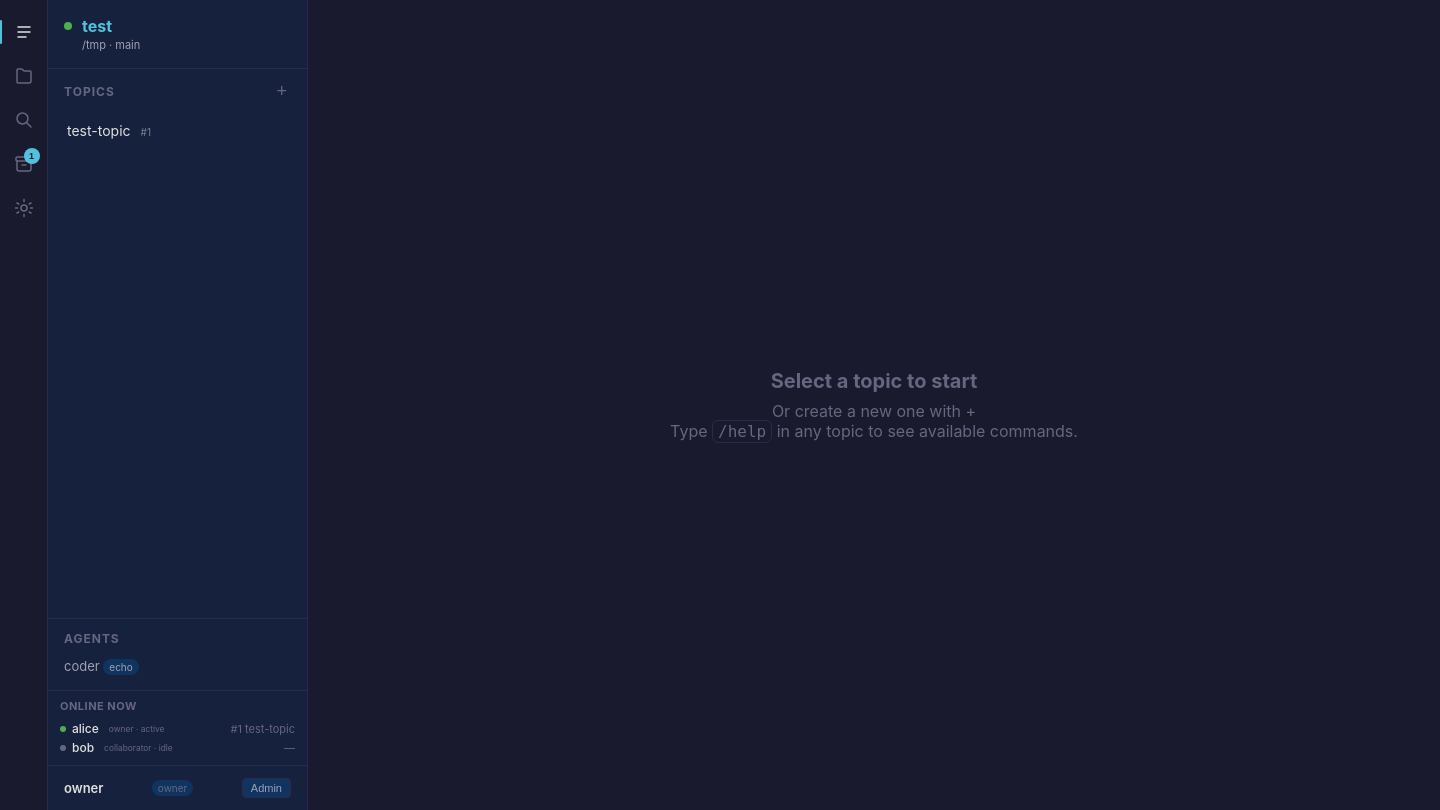
it: message composer delivery state › marks the optimistic message as failed when POST fails
Expected: the heading "Select a topic to start" is shown, [771, 369, 977, 393]
Click the list item "test-topic" at (109, 130), box [67, 122, 151, 139]
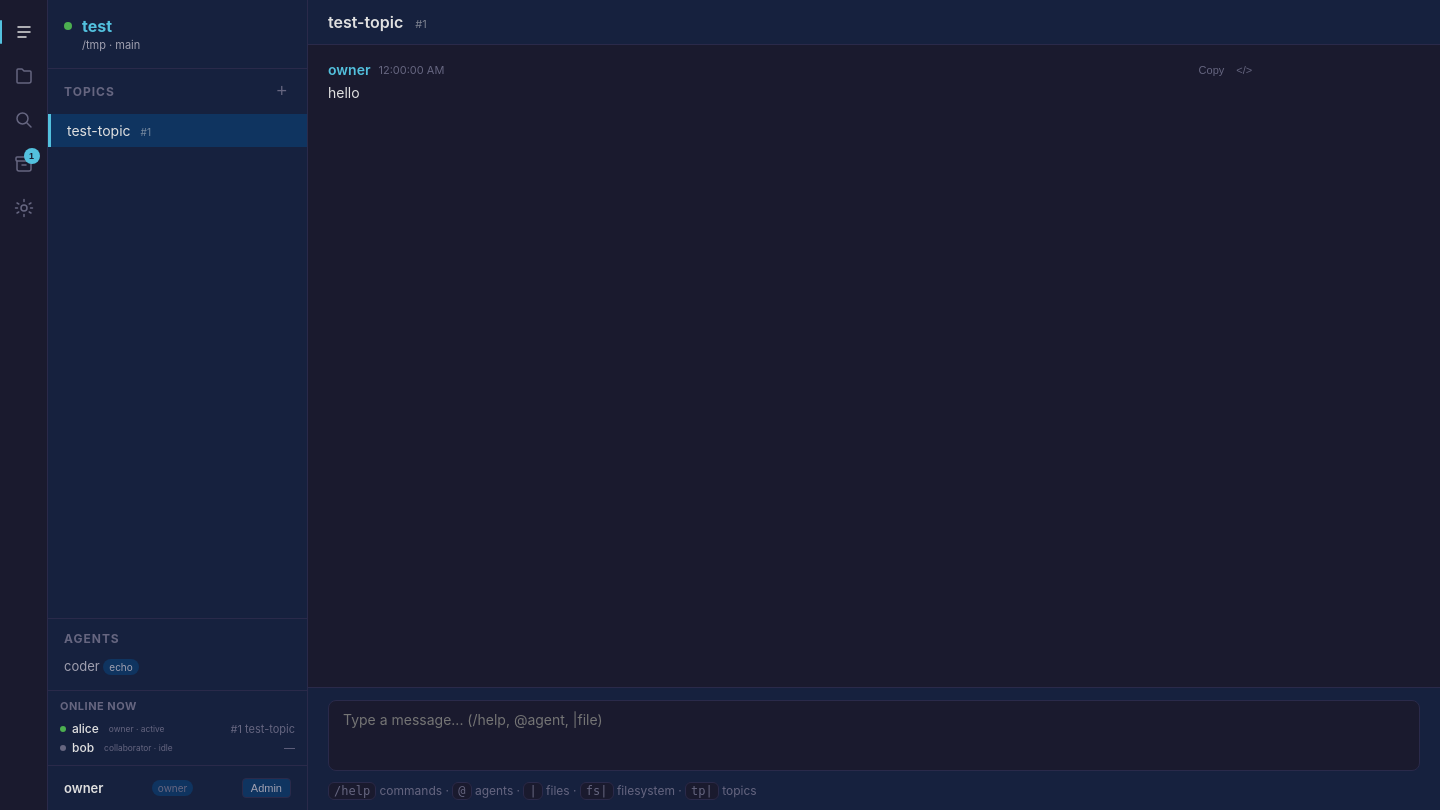
Expected: the text box with placeholder "Type a message... (/help, @agent, |file)" is shown
Type "will fail" into the text box with placeholder "Type a message... (/help, @agent, |file)" at (874, 736), box [328, 700, 1420, 771]
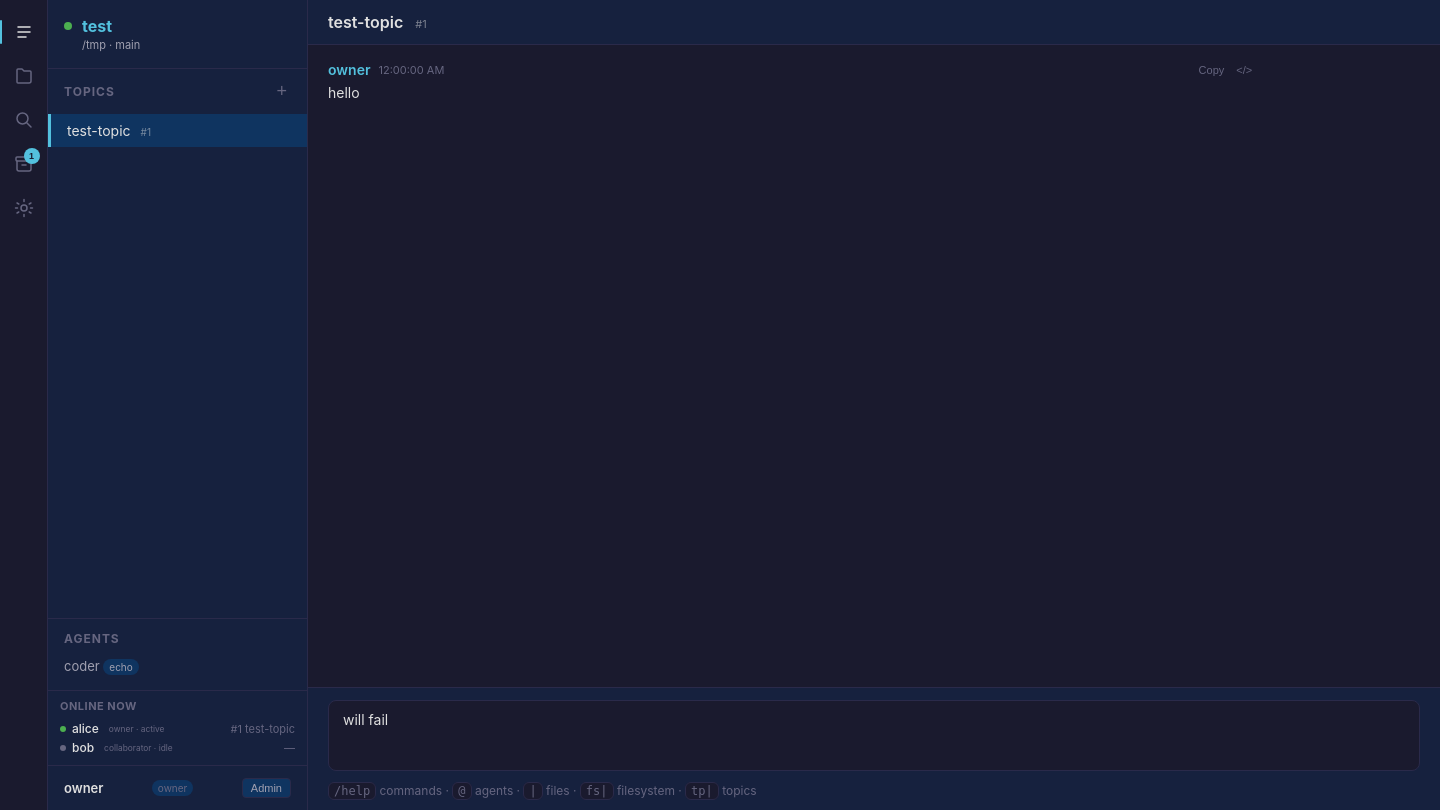
Press Enter in the text box with placeholder "Type a message... (/help, @agent, |file)", box [328, 700, 1420, 771]
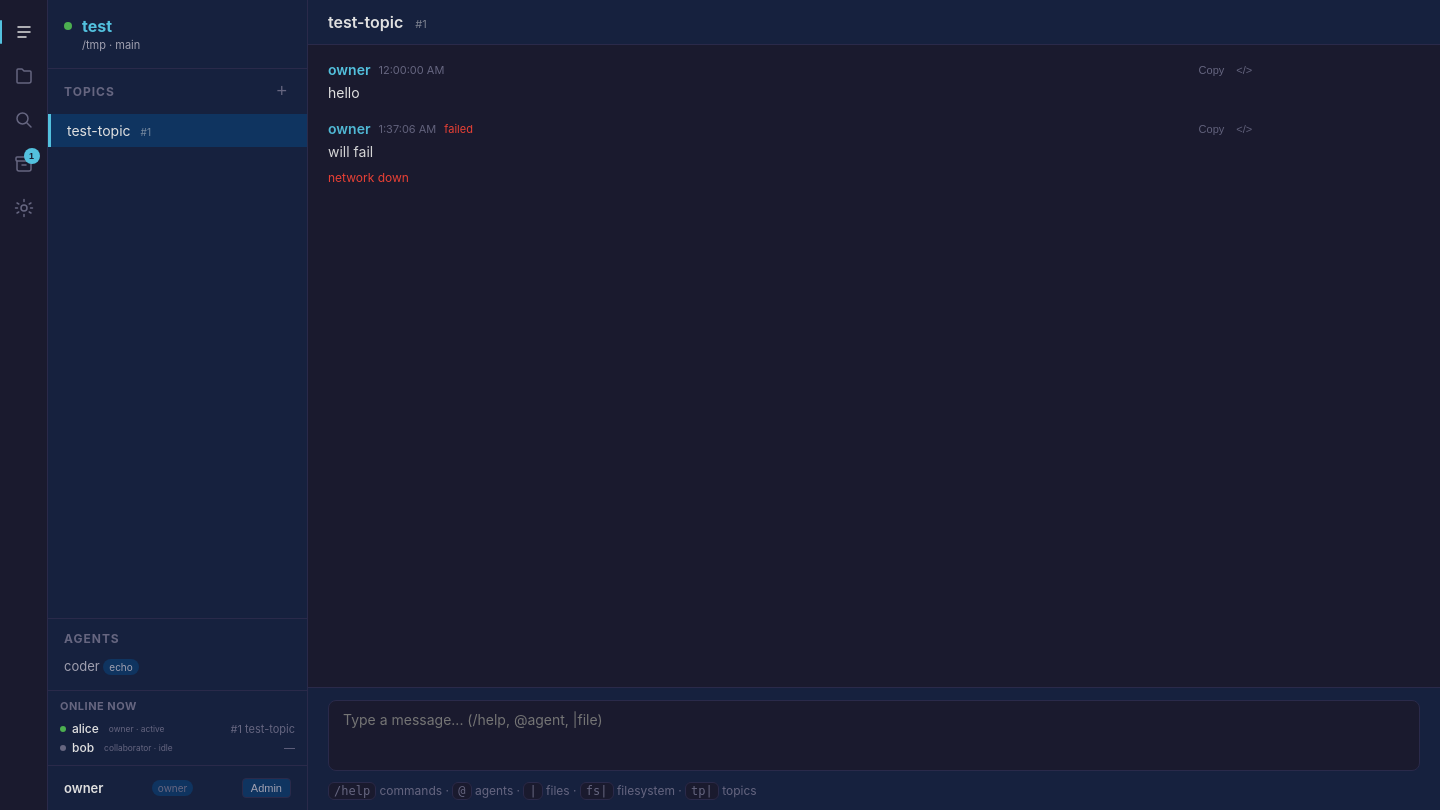
Expected: the text "will fail" is shown, [328, 143, 373, 160]
Expected: the text "failed" is shown, [444, 122, 473, 136]
Expected: the text "network down" is shown, [328, 170, 409, 185]
